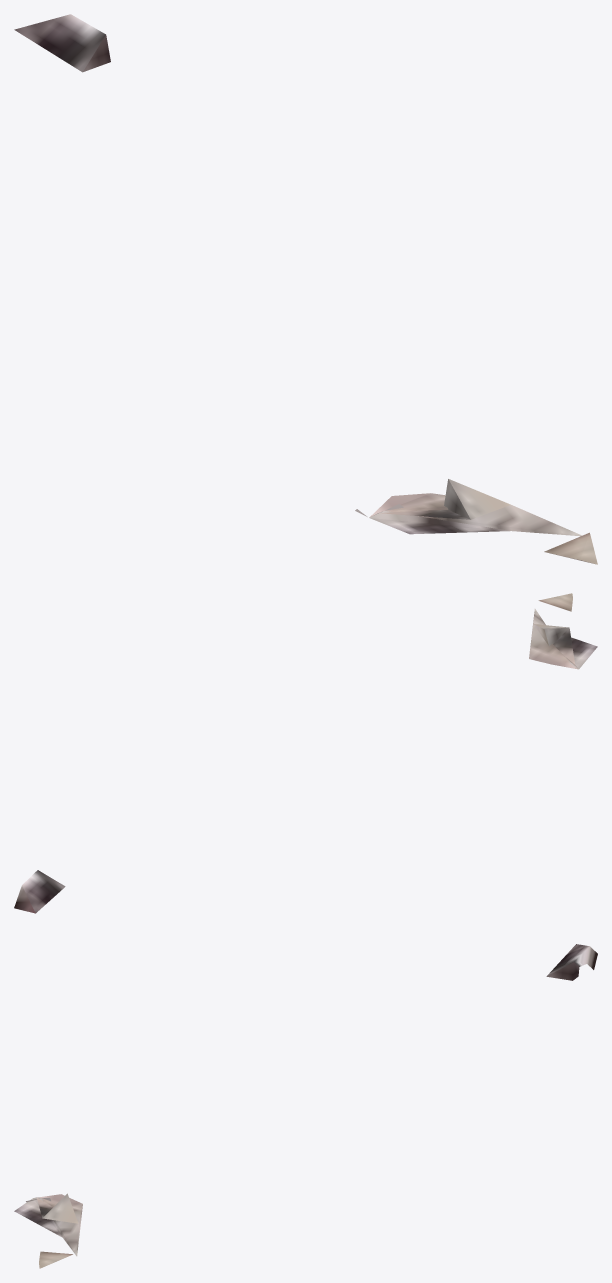
3 views of the same model, one above another, from view 1: azimuth 30°, elevation 25°; view 2: azimuth 150°, elevation 25°; view 3: azimuth 330°, elevation 25° (orthographic). The views are drawn at different scales.
Visible parts, largest first — view 1: Mesh_0; view 2: Mesh_0; view 3: Mesh_0.
Boxes of the visible parts, left/top/right/bottom form: Mesh_0: left=14, top=14, right=597, bottom=564; Mesh_0: left=14, top=593, right=597, bottom=913; Mesh_0: left=14, top=944, right=597, bottom=1268.
Size of the model in its own units: 12.55 by 2.02 by 53.53.
1 material, 1 textured.
